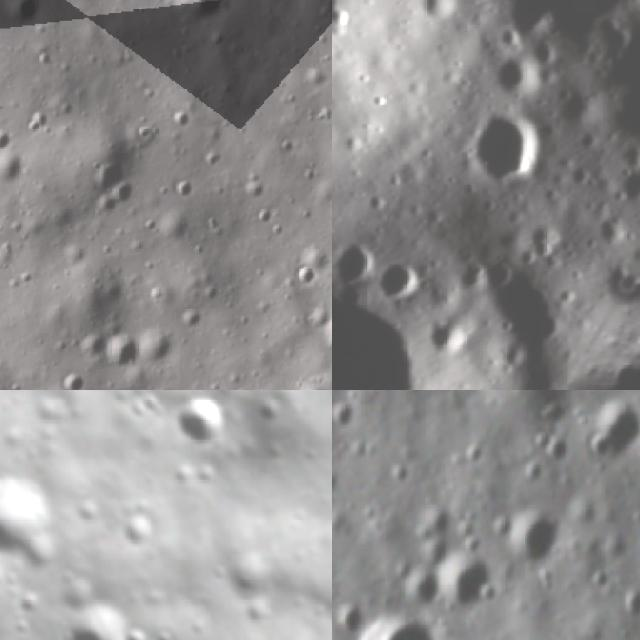crater: (332, 158, 523, 390), (446, 0, 640, 90), (445, 102, 556, 205), (0, 464, 73, 586), (75, 143, 147, 226), (362, 244, 439, 318), (433, 541, 501, 622), (332, 216, 392, 307), (504, 496, 572, 574), (577, 390, 640, 470), (482, 51, 550, 119), (52, 597, 138, 640), (348, 606, 453, 640), (177, 391, 236, 449), (414, 314, 474, 371), (585, 206, 639, 260), (398, 568, 444, 618), (164, 0, 236, 31), (99, 328, 146, 375), (604, 163, 640, 220), (115, 508, 160, 552), (0, 143, 33, 191), (332, 594, 367, 639), (538, 390, 576, 427), (249, 390, 288, 426), (2, 0, 48, 30), (613, 584, 640, 630), (288, 262, 326, 292), (51, 363, 89, 390), (332, 399, 357, 434), (530, 427, 558, 456), (461, 437, 485, 468), (387, 456, 413, 484), (626, 225, 640, 276), (524, 460, 546, 487), (292, 374, 329, 390), (0, 121, 13, 158), (126, 623, 153, 640), (332, 464, 345, 496)
